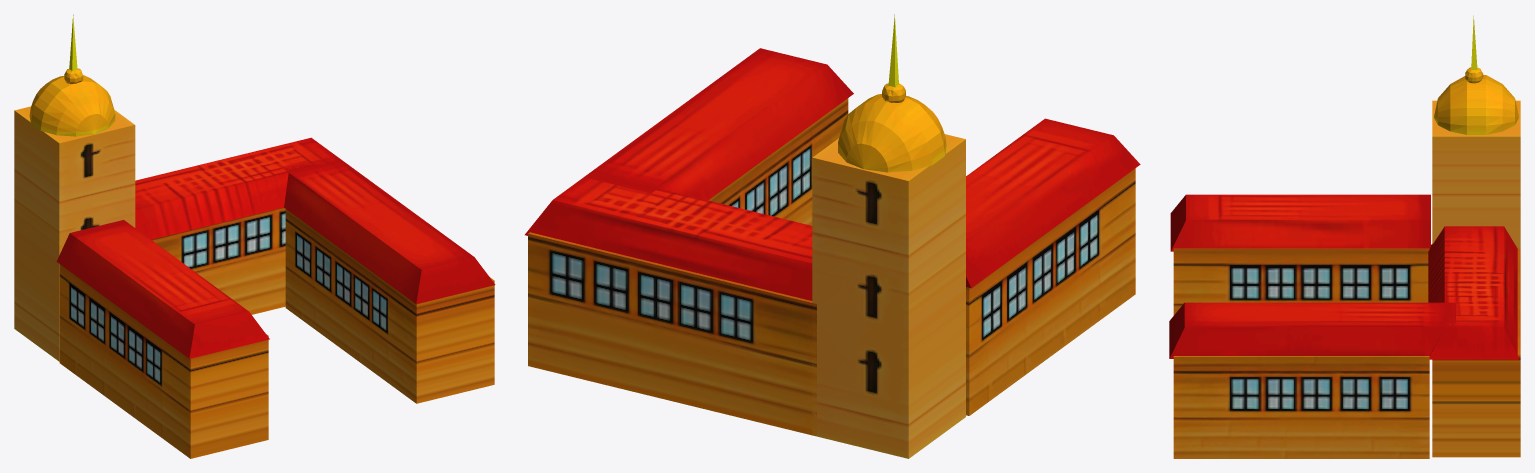
Rendered from MOI.glb.
3 renders of one model, left to right at view 1: azimuth 30°, elevation 25°; view 2: azimuth 150°, elevation 25°; view 3: azimuth 270°, elevation 25°, orthographic. The views are drawn at different scales.
Visible parts, largest first — view 1: MOI; view 2: MOI; view 3: MOI.
Part boxes in pixels (x1=…): MOI: x1=14, y1=14, x2=495, y2=458; MOI: x1=525, y1=14, x2=1140, y2=458; MOI: x1=1169, y1=15, x2=1520, y2=458.
Size of the model in its own units: 263 by 266 by 267.
1 material, 1 textured.
